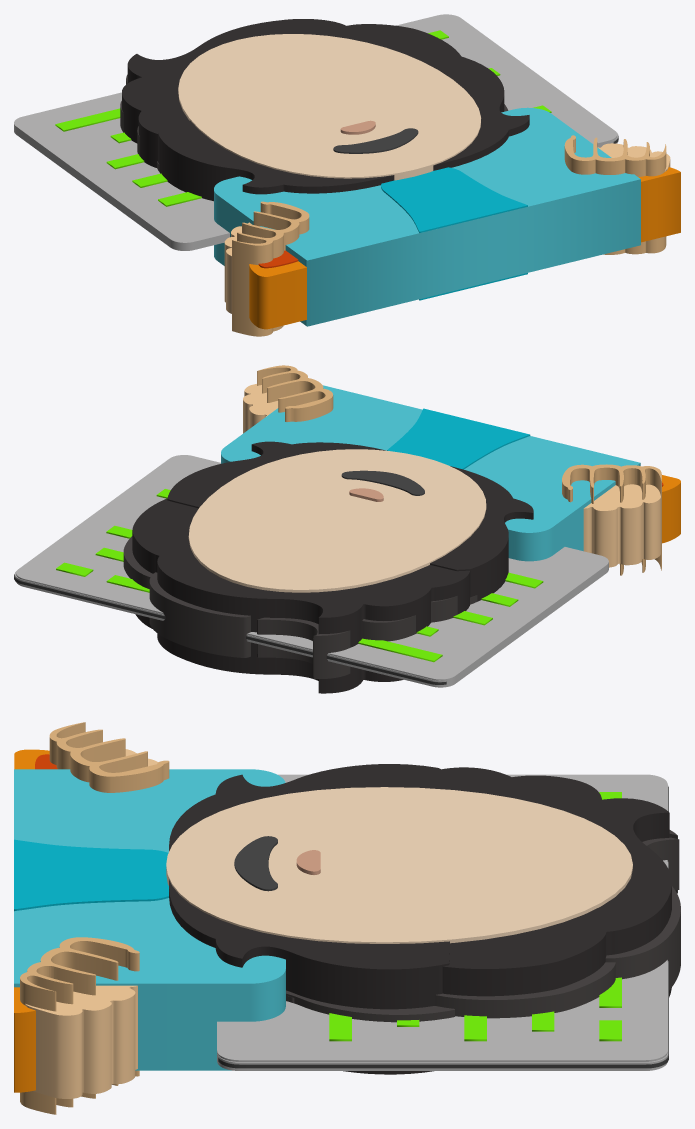
The model's file is emoji_u1f9d1_1f3fb_200d_1f4bb.glb.
3 views of the same model, one above another, from view 1: azimuth 30°, elevation 25°; view 2: azimuth 150°, elevation 25°; view 3: azimuth 270°, elevation 25° (orthographic). The views are drawn at different scales.
Parts seen in each view (by area): view 1: emoji_u1f9d1_1f3fb_200d_1f4bb; view 2: emoji_u1f9d1_1f3fb_200d_1f4bb; view 3: emoji_u1f9d1_1f3fb_200d_1f4bb.
Part boxes in pixels (x1,y1,x2,y2): emoji_u1f9d1_1f3fb_200d_1f4bb: [14, 14, 680, 336]; emoji_u1f9d1_1f3fb_200d_1f4bb: [14, 365, 680, 693]; emoji_u1f9d1_1f3fb_200d_1f4bb: [14, 722, 680, 1114].
Bounding box in the file's own units: 0.0339 × 0.0068 × 0.0334.
